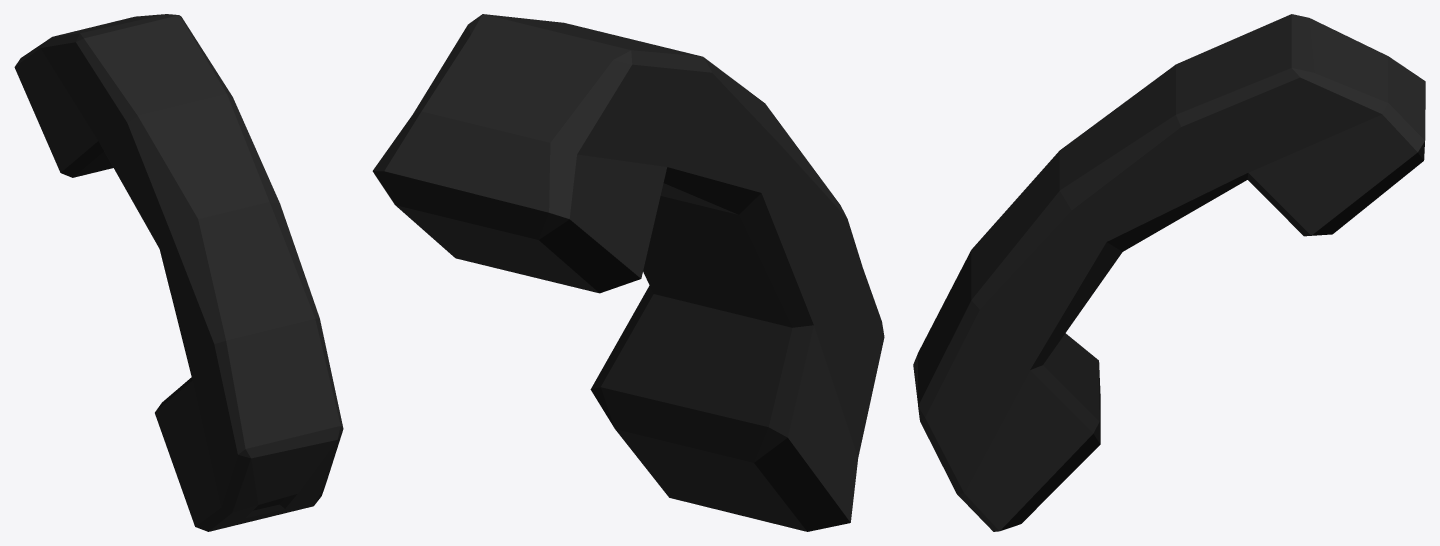
Rendered from SM_Prop_Hotel_Phone_Phone_01.obj.
3 renders of one model, left to right at view 1: azimuth 30°, elevation 25°; view 2: azimuth 150°, elevation 25°; view 3: azimuth 270°, elevation 25°, orthographic. The views are drawn at different scales.
Parts seen in each view (by area): view 1: SM_Prop_Hotel_Phone_Phone_01_0; view 2: SM_Prop_Hotel_Phone_Phone_01_0; view 3: SM_Prop_Hotel_Phone_Phone_01_0.
Boxes of the visible parts, left/top/right/bottom form: SM_Prop_Hotel_Phone_Phone_01_0: left=14, top=14, right=343, bottom=531; SM_Prop_Hotel_Phone_Phone_01_0: left=372, top=14, right=884, bottom=531; SM_Prop_Hotel_Phone_Phone_01_0: left=913, top=14, right=1425, bottom=531.
Bounding box in the file's own units: 0.1102 × 0.331 × 0.3336.
Materials: 1 (1 with a texture image).
